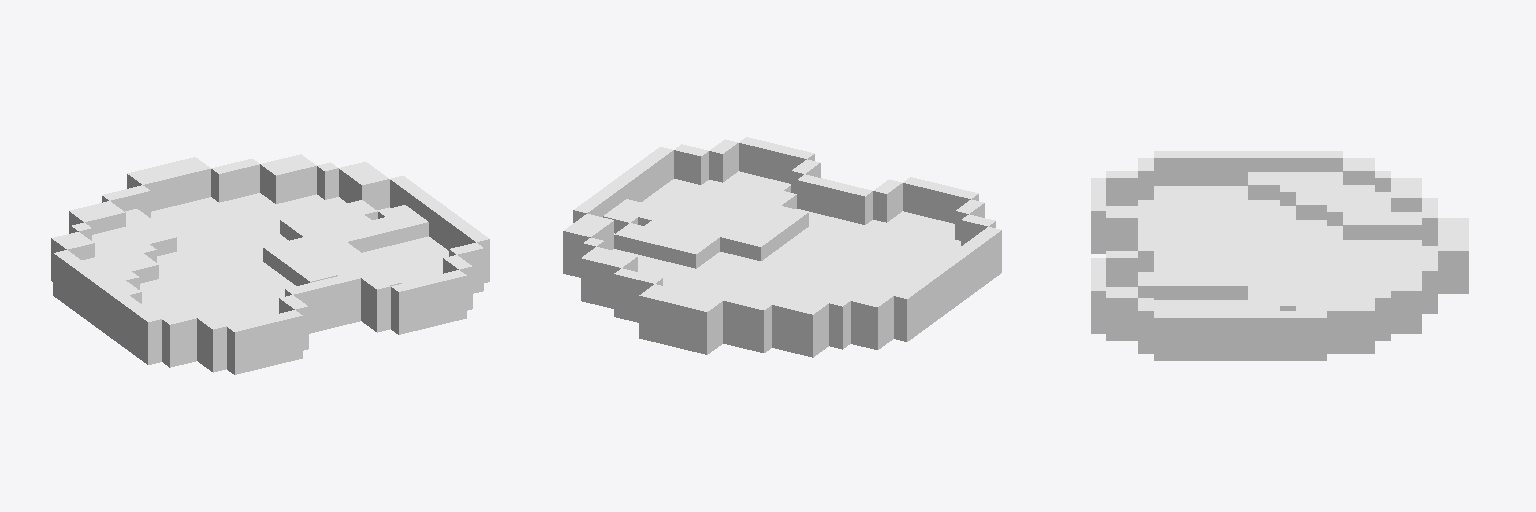
The model's file is SnowLily.obj.
3 views of the same model, side by side, from view 1: azimuth 30°, elevation 25°; view 2: azimuth 150°, elevation 25°; view 3: azimuth 270°, elevation 25° (orthographic).
Parts seen in each view (by area): view 1: object 1; view 2: object 1; view 3: object 1.
Boxes of the visible parts, box(x1,y1,x2,y2) form: object 1: box(51, 154, 489, 374); object 1: box(563, 137, 1001, 357); object 1: box(1091, 151, 1468, 360).
Size of the model in its own units: 2.5 by 0.3 by 2.4.